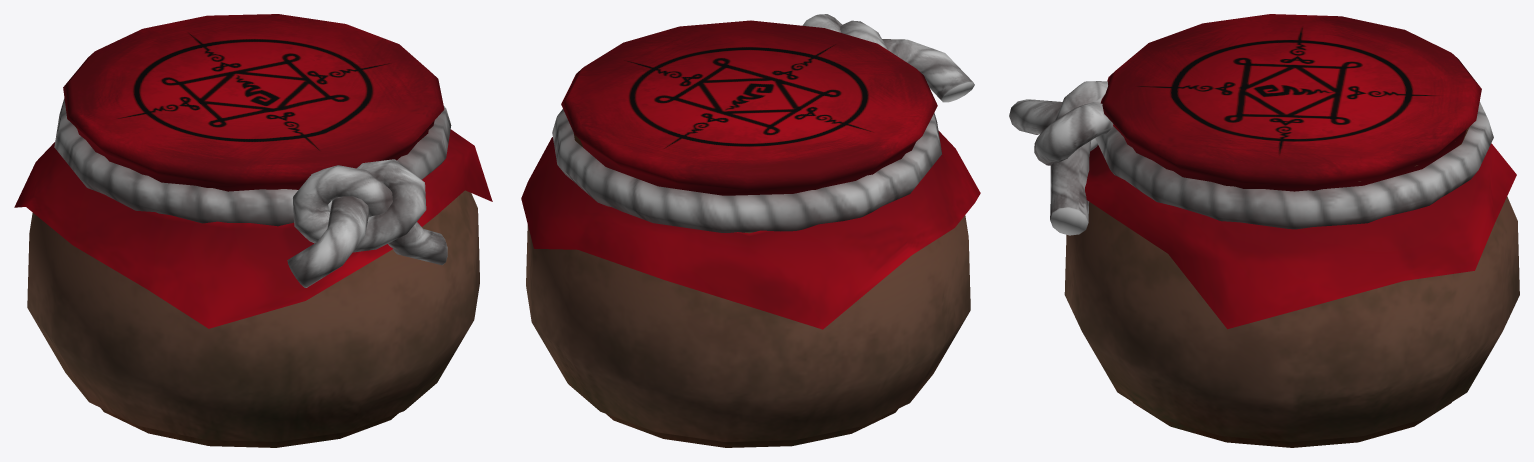
File: pot.fbx
3 renders of one model, left to right at view 1: azimuth 30°, elevation 25°; view 2: azimuth 150°, elevation 25°; view 3: azimuth 270°, elevation 25°, orthographic.
Visible parts, largest first — view 1: claypot; view 2: claypot; view 3: claypot.
Part boxes in pixels (bbox=[...]): claypot: bbox=[14, 14, 492, 447]; claypot: bbox=[521, 14, 980, 447]; claypot: bbox=[1009, 14, 1519, 447].
Size of the model in its own units: 57.44 by 38.8 by 63.07.
Materials: 1 (1 with a texture image).
